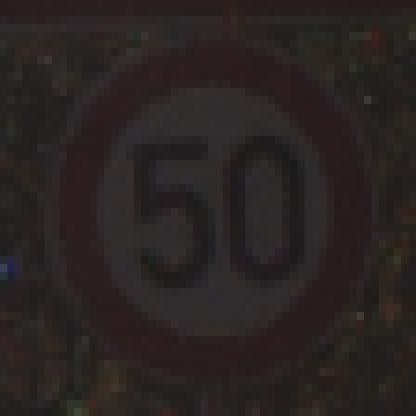Speed Limit 50: (58, 46, 371, 376)
